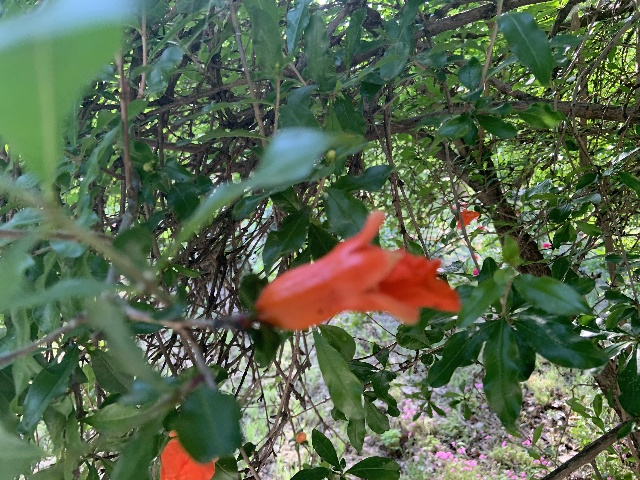bud: (295, 431, 306, 442)
flower: (256, 211, 461, 329), (158, 429, 218, 480), (453, 208, 480, 229)
